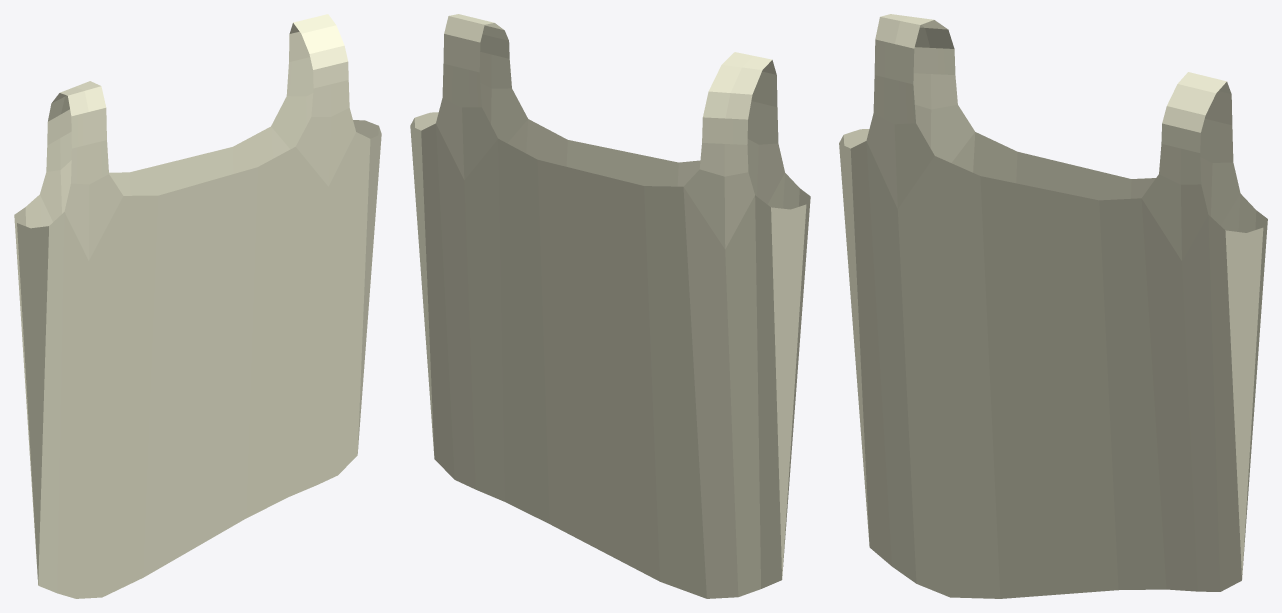
The model's file is Props_Pbag.fbx.
3 views of the same model, side by side, from view 1: azimuth 30°, elevation 25°; view 2: azimuth 150°, elevation 25°; view 3: azimuth 330°, elevation 25° (orthographic). The views are drawn at different scales.
Visible parts, largest first — view 1: Props_Pbag; view 2: Props_Pbag; view 3: Props_Pbag.
Part boxes in pixels (x1=…): Props_Pbag: x1=14, y1=14, x2=381, y2=598; Props_Pbag: x1=410, y1=14, x2=810, y2=598; Props_Pbag: x1=839, y1=14, x2=1267, y2=598.
Size of the model in its own units: 29.07 by 39.25 by 4.86.
